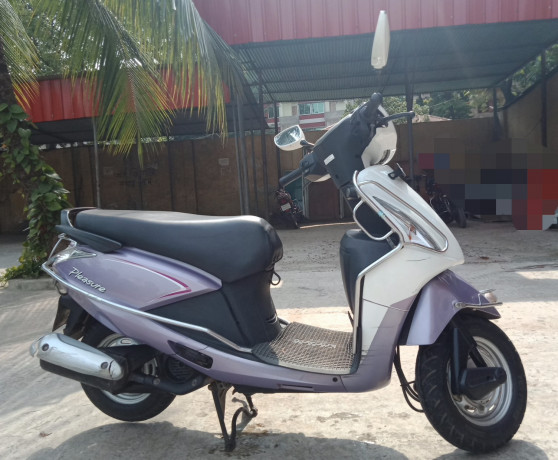scooter: (30, 7, 531, 455)
